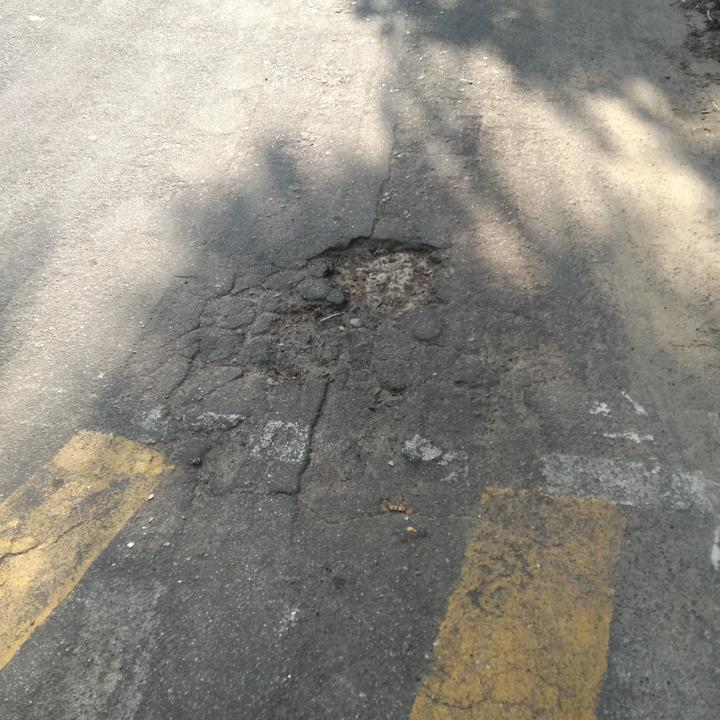pothole: (307, 234, 458, 325), (264, 299, 363, 382), (190, 423, 257, 503)
